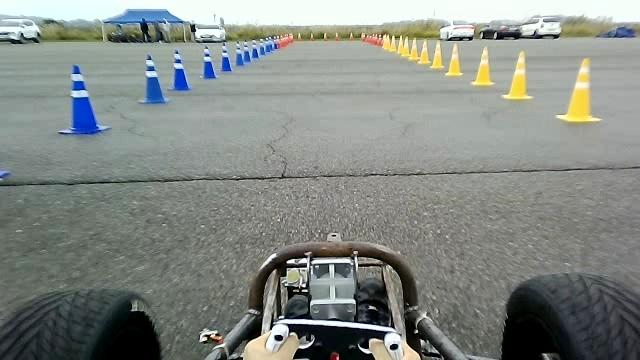blue cone: (57, 63, 111, 134), (137, 53, 167, 103), (167, 49, 191, 90), (200, 45, 217, 79), (220, 42, 232, 71), (234, 41, 244, 66), (241, 40, 252, 62), (251, 39, 259, 58)
yellow cone: (555, 56, 602, 122), (501, 50, 533, 100), (471, 45, 494, 86), (445, 42, 463, 76), (430, 39, 444, 69), (407, 37, 419, 61), (400, 36, 409, 56), (388, 35, 397, 52), (396, 35, 404, 54)
